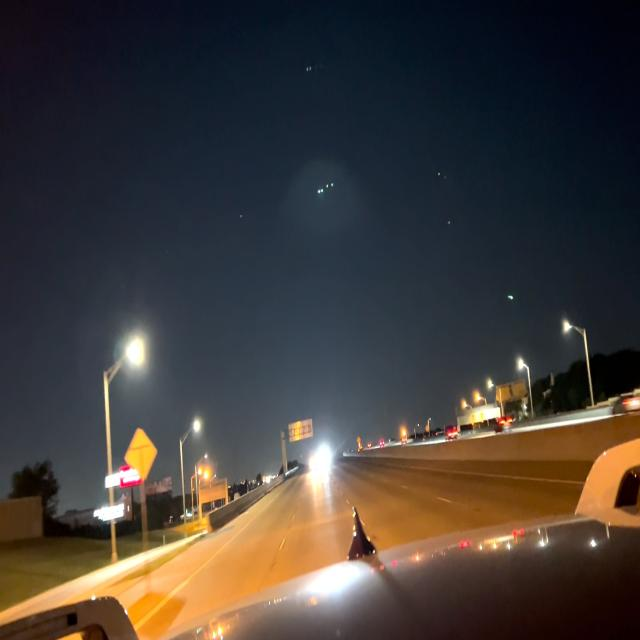back-of-sign: (125, 430, 159, 482)
